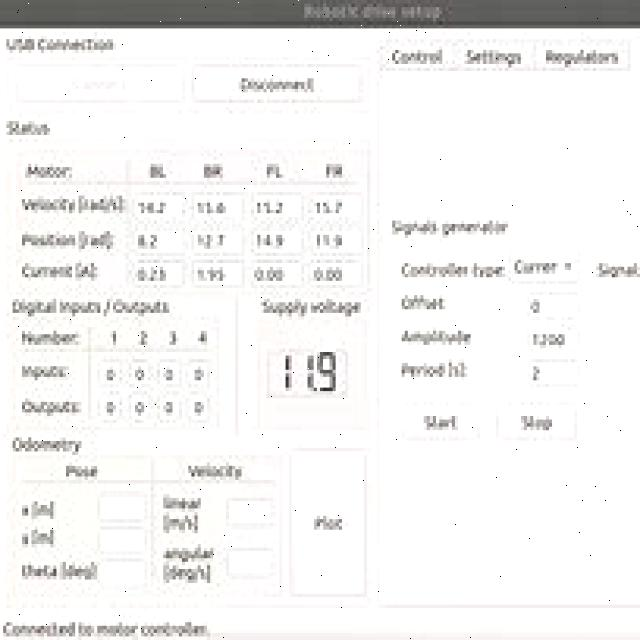button: (288, 444, 368, 597), (14, 60, 186, 107), (190, 60, 365, 106), (398, 400, 485, 442), (494, 400, 579, 442), (591, 251, 640, 286)
dropdownMenu: (507, 247, 582, 284)
input: (96, 489, 151, 522), (224, 546, 276, 579), (94, 526, 152, 555), (251, 191, 303, 223), (226, 496, 276, 529), (308, 258, 362, 288), (526, 358, 580, 388), (192, 192, 246, 221), (308, 191, 360, 221), (526, 290, 581, 318), (133, 227, 186, 256), (131, 259, 185, 287), (250, 228, 305, 255), (526, 326, 581, 353), (191, 260, 244, 288), (251, 260, 304, 288), (98, 558, 150, 586), (132, 190, 184, 218), (192, 228, 244, 255), (309, 229, 362, 255), (97, 391, 125, 424), (184, 358, 213, 389), (185, 394, 214, 422), (156, 360, 183, 388), (155, 394, 181, 423), (130, 391, 150, 423), (97, 360, 121, 386), (130, 358, 150, 385)
label: (0, 615, 216, 640), (265, 346, 349, 399), (7, 294, 183, 318), (387, 213, 508, 239), (158, 542, 218, 590), (397, 257, 502, 283), (0, 32, 120, 53), (16, 556, 97, 587), (19, 228, 121, 252), (17, 193, 128, 215), (256, 297, 364, 318), (8, 430, 89, 456), (19, 259, 100, 285), (159, 490, 205, 534), (398, 324, 476, 349), (396, 357, 472, 382), (17, 394, 86, 418), (20, 158, 80, 185), (397, 291, 452, 317), (16, 324, 80, 346), (185, 460, 249, 481), (0, 113, 53, 138), (16, 361, 76, 383), (18, 495, 61, 523), (17, 524, 59, 548), (260, 156, 290, 183), (62, 461, 104, 480), (201, 155, 227, 182), (145, 155, 171, 182), (322, 157, 351, 180), (194, 326, 211, 349), (163, 326, 180, 347), (134, 328, 150, 349), (107, 326, 120, 347)
tabControl: (376, 32, 636, 72)
